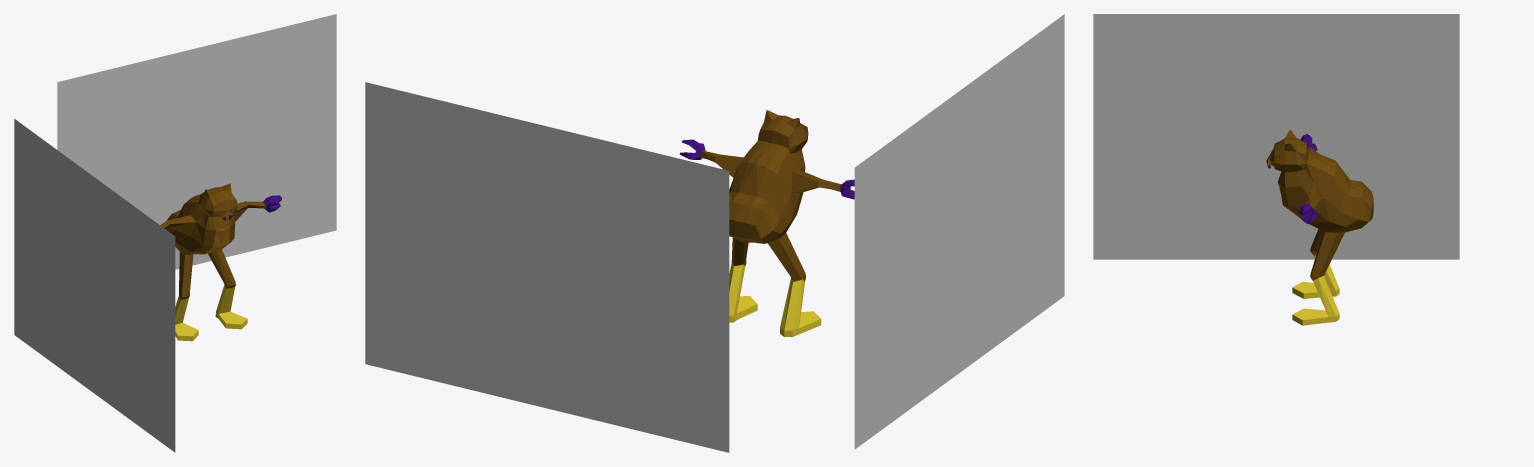
Rendered from monster_02_colored.fbx.
3 renders of one model, left to right at view 1: azimuth 30°, elevation 25°; view 2: azimuth 150°, elevation 25°; view 3: azimuth 270°, elevation 25°, orthographic. The views are drawn at different scales.
Visible parts, largest first — view 1: pPlane1, pPlane2, pCube1; view 2: pPlane1, pPlane2, pCube1; view 3: pPlane2, pCube1.
Part boxes in pixels (<box>): pPlane1: <box>57,14,336,269</box>; pPlane2: <box>14,119,175,452</box>; pCube1: <box>160,183,282,341</box>; pPlane1: <box>365,82,729,452</box>; pPlane2: <box>854,14,1064,449</box>; pCube1: <box>679,110,854,337</box>; pPlane2: <box>1093,14,1459,259</box>; pCube1: <box>1266,130,1373,325</box>.
Bounding box in the file's own units: 14.18 × 8.4 × 13.21.
